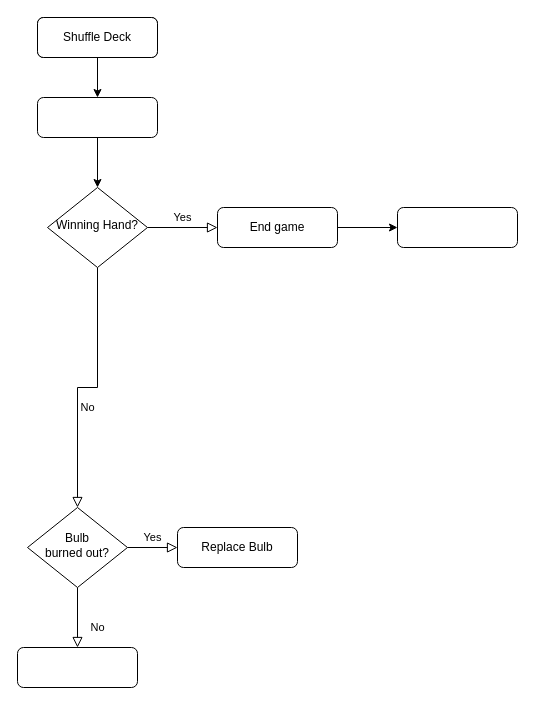
The diagram is 535 pixels wide and 705 high, and some of its shapes have lost their labels. Here are the shapes that lost their labels. From the top down, the centre of each, then its label:
(97,117): Dealer draws 14 tiles Players draw 13 tiles
(457,227): Calculate Score
(77,667): Repair Lamp
